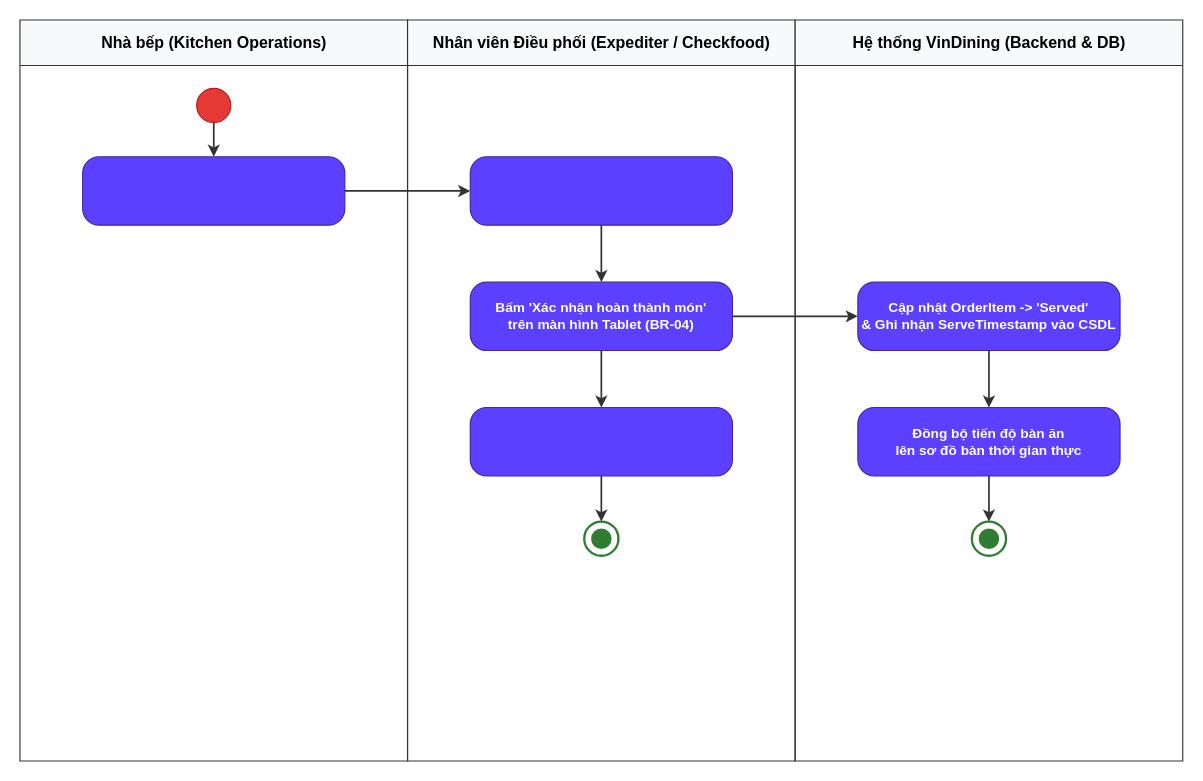
Some shapes in this 1203 by 781 pixel diagram are drawn without their labels. The shapes that lost their labels are listed below. From the top down, each one's box as (x1, y1, x2, y2) in pixels, then its label:
(82, 156, 345, 225): Đầu bếp nấu xong đĩa món chuẩn chất lượng & đặt ra quầy chuyển món (Pass)
(469, 156, 732, 225): Kiểm tra đĩa món, đối chiếu phiếu Bếp & kiểm tra dị ứng
(469, 406, 732, 476): Giao đĩa món cho Waitstaff bưng ra bàn phục vụ cho khách
